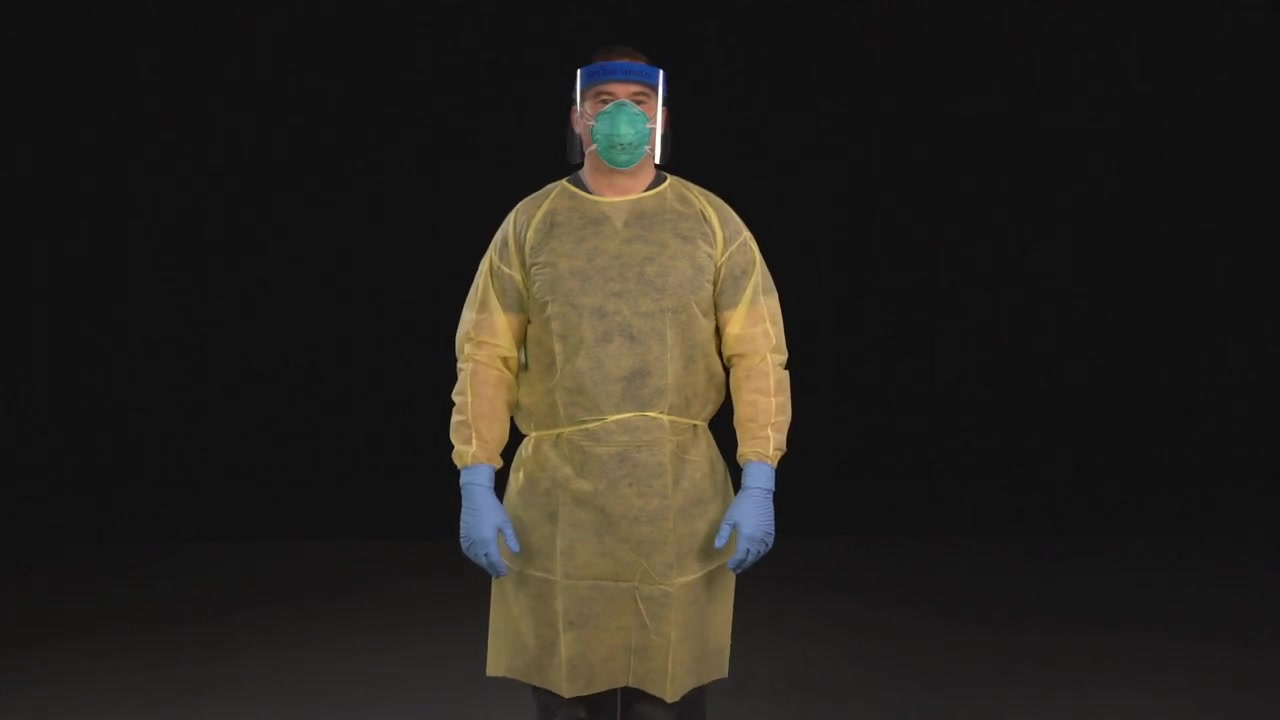Coverall: (487, 161, 737, 690)
Face_Shield: (562, 59, 676, 177)
Gloves: (442, 461, 519, 578), (726, 461, 779, 575)
with_mask: (594, 80, 654, 170)
